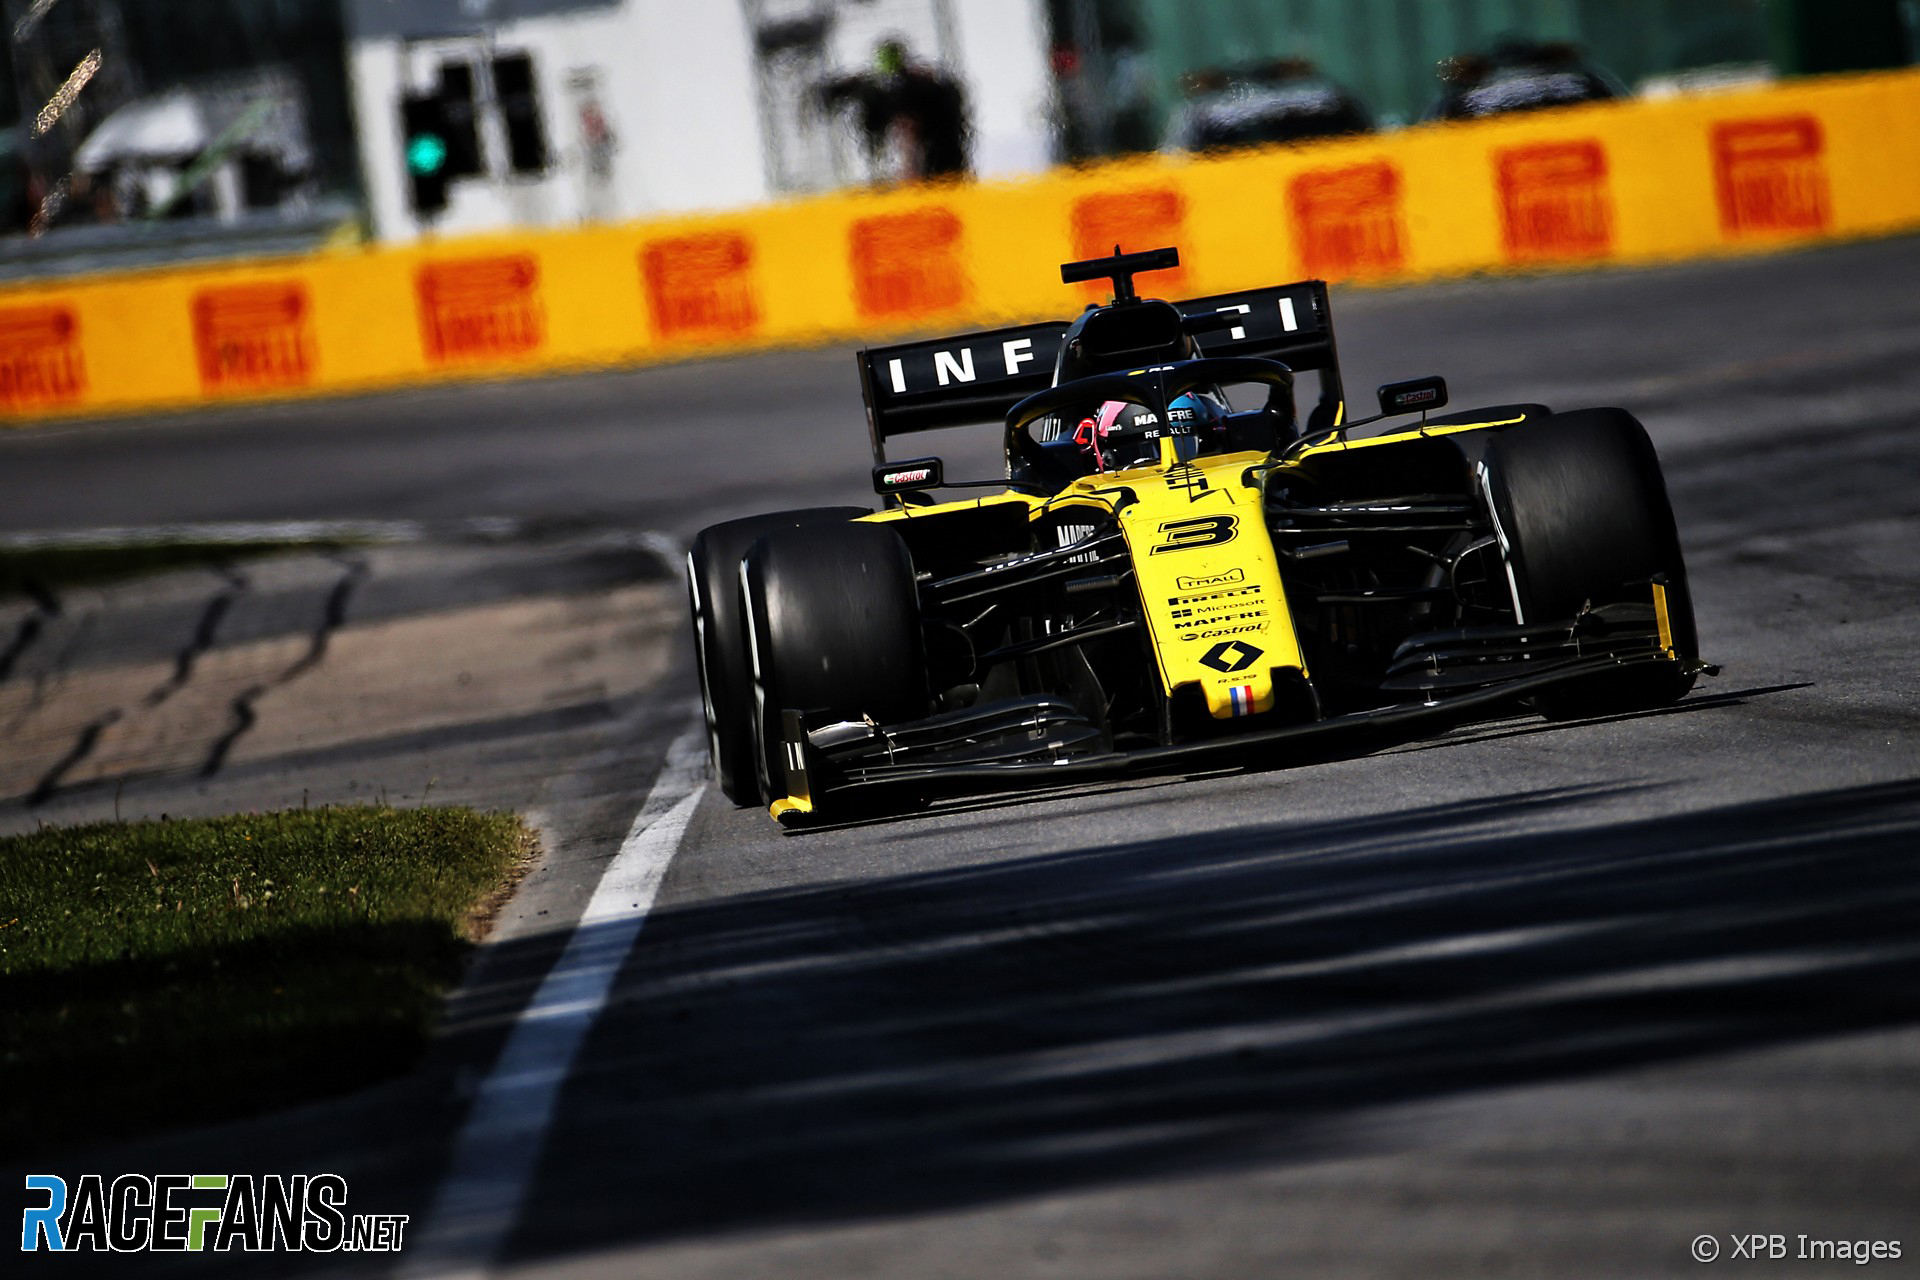F1 Car: (667, 227, 1739, 854)
